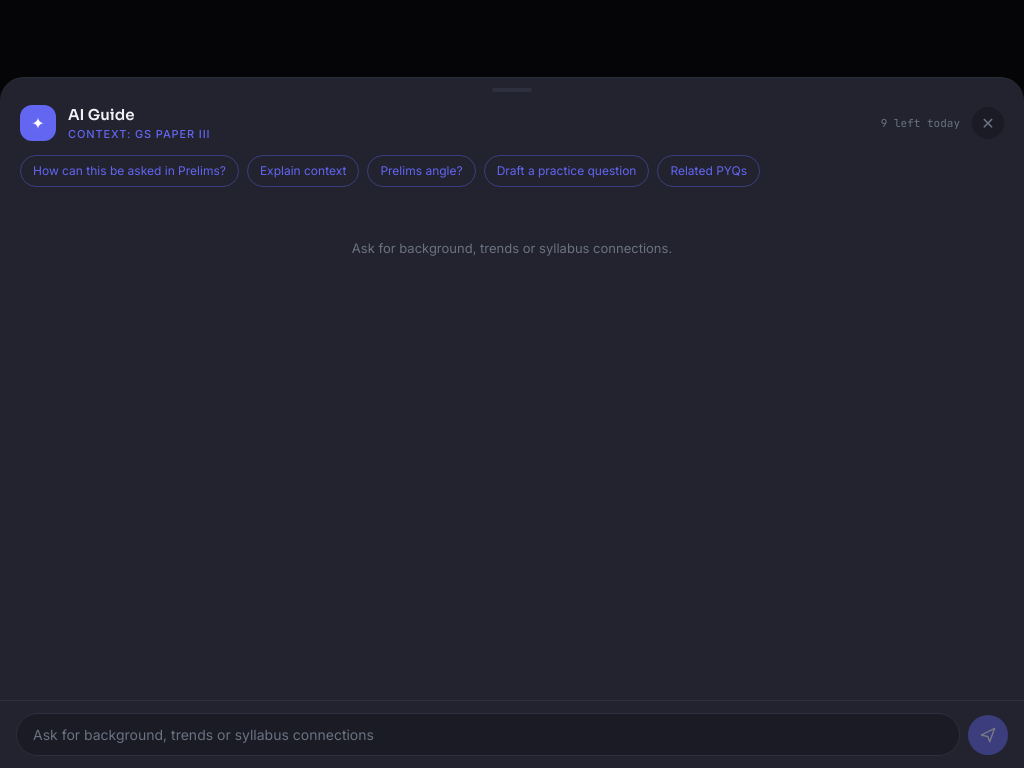
Scenario: AIGuidePanel › sends a chip prompt and replaces the optimistic user message with the API reply
The width and height of the screenshot is (1024, 768).
What coordinates should you click on to do the following:
click the button "Prelims angle?"
I would click on:
 (422, 171)
Its box is x1=367 y1=155 x2=476 y2=187.
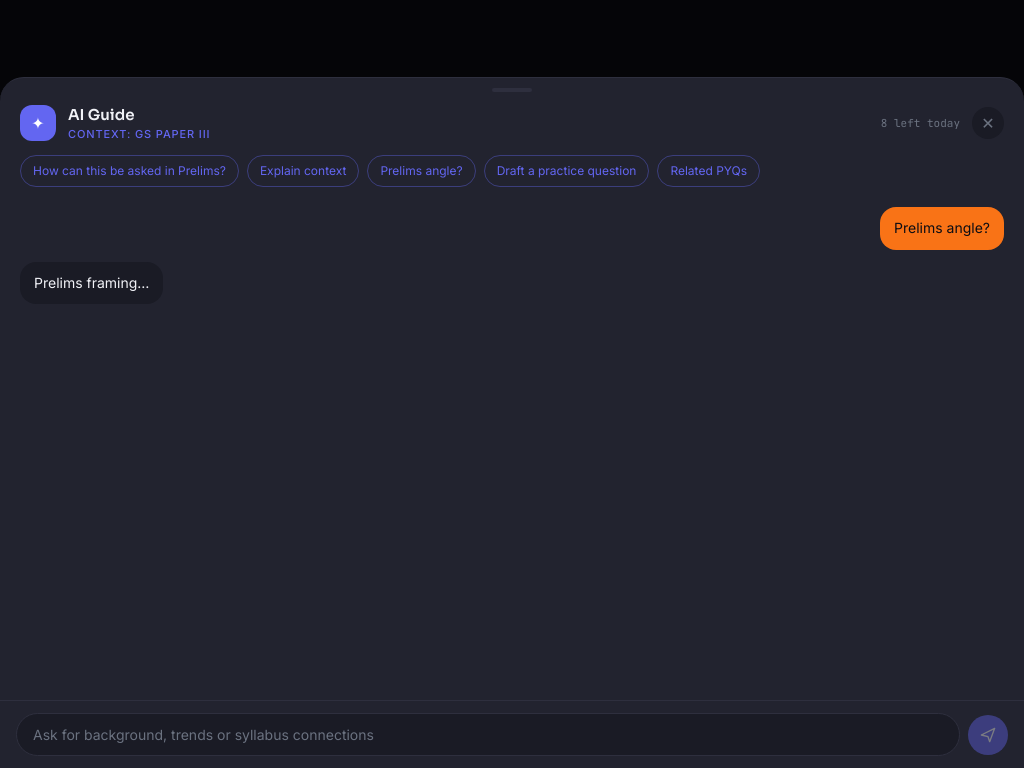
Check: the text "Prelims framing…" is shown, box x1=20 y1=262 x2=164 y2=304
